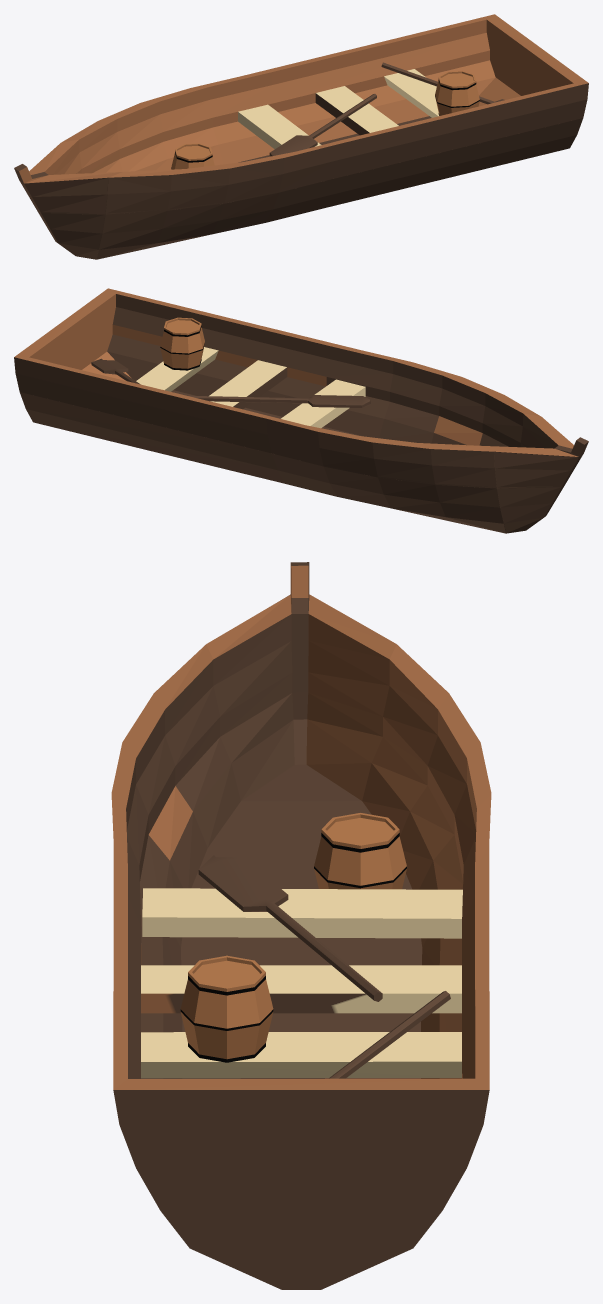
The model's file is Boat.fbx.
3 renders of one model, top to bottom at view 1: azimuth 30°, elevation 25°; view 2: azimuth 150°, elevation 25°; view 3: azimuth 270°, elevation 25°, orthographic. The views are drawn at different scales.
Visible parts, largest first — view 1: pCube5, pCylinder7, pCylinder2, pCylinder4, pCylinder3; view 2: pCube5, pCylinder7, pCylinder2, pCylinder3; view 3: pCube5, pCylinder7, pCylinder4, pCylinder2, pCylinder3.
Part boxes in pixels (x1,y1,x2,y2): pCube5: [14, 14, 588, 259]; pCylinder7: [435, 70, 479, 115]; pCylinder2: [269, 94, 376, 156]; pCylinder4: [171, 143, 214, 169]; pCylinder3: [381, 62, 504, 104]; pCube5: [14, 288, 588, 533]; pCylinder7: [160, 317, 204, 370]; pCylinder2: [189, 395, 370, 407]; pCylinder3: [91, 358, 140, 384]; pCube5: [111, 562, 491, 1289]; pCylinder7: [180, 955, 273, 1062]; pCylinder4: [314, 813, 406, 889]; pCylinder2: [198, 855, 382, 1001]; pCylinder3: [329, 991, 450, 1078].
Size of the model in its own units: 6.36 by 1.27 by 1.99.
